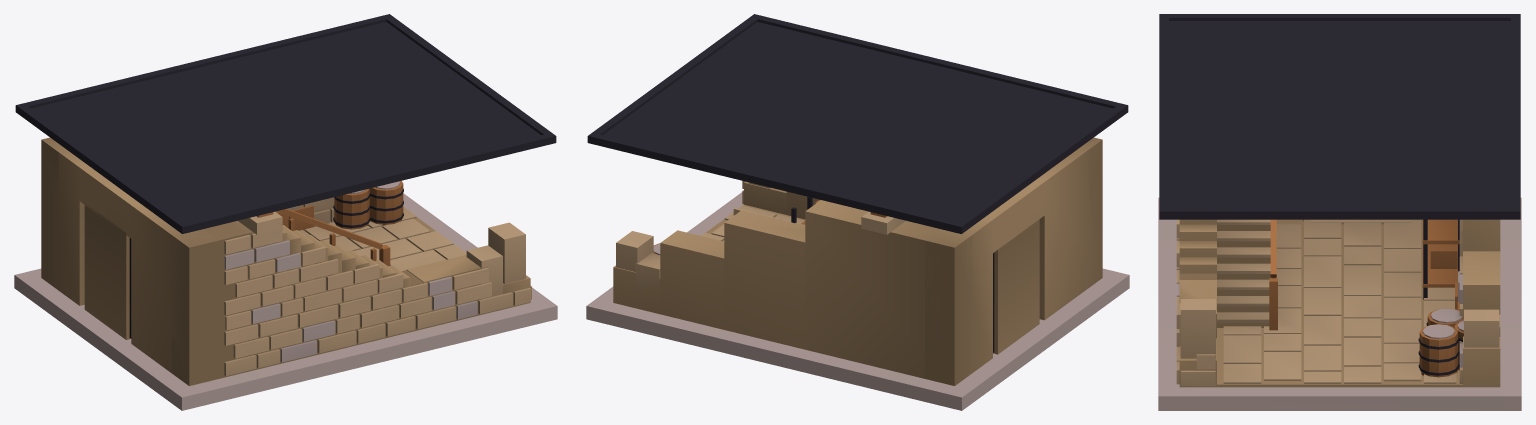
The model's file is int.basement-cellar.lod1.glb.
3 renders of one model, left to right at view 1: azimuth 30°, elevation 25°; view 2: azimuth 150°, elevation 25°; view 3: azimuth 270°, elevation 25°, orthographic. The views are drawn at different scales.
Parts seen in each view (by area): view 1: body, roof; view 2: body, roof; view 3: roof, body.
Boxes of the visible parts, x1,y1,x2,y2 form: body: [14, 137, 557, 410]; roof: [15, 14, 556, 233]; body: [586, 137, 1129, 410]; roof: [587, 14, 1128, 233]; roof: [1159, 14, 1520, 219]; body: [1158, 197, 1521, 410].
Size of the model in its own units: 8.8 by 4.1 by 6.8.
